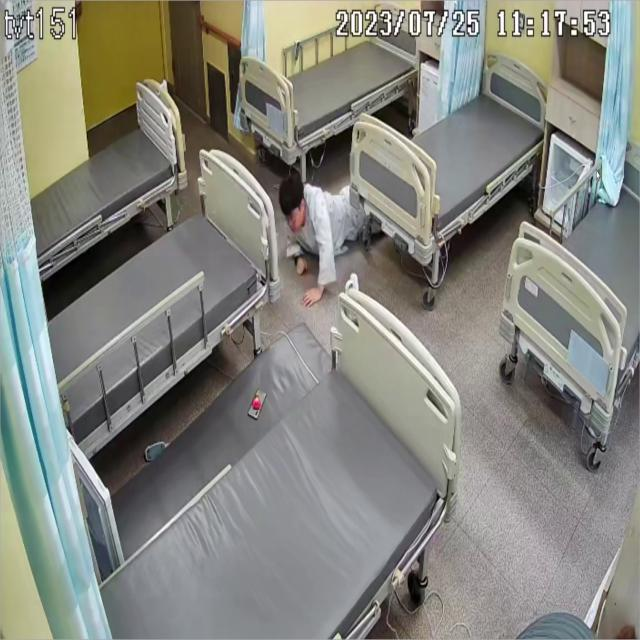bed: (98, 298, 453, 640), (42, 154, 276, 448), (504, 142, 640, 434), (348, 61, 544, 243), (28, 79, 187, 276), (244, 17, 417, 162)
fall: (280, 165, 364, 303)
patient: (278, 160, 364, 300)
